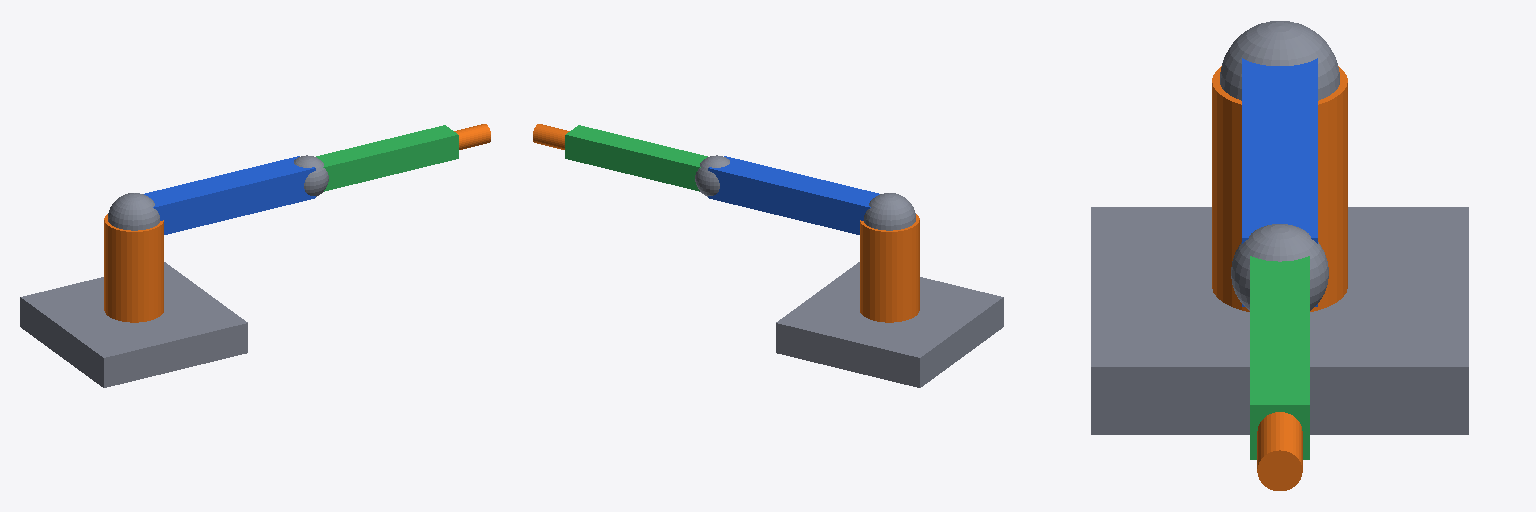
robot.urdf — sample_arm:
<?xml version="1.0"?>
<!-- 뷰어 확인용 예제: 기본 도형만 쓰는 3축 로봇 팔 (메시 파일 불필요). 질량/관성은 중력 토크 확인용 대략값 -->
<robot name="sample_arm">
  <material name="gray"><color rgba="0.55 0.57 0.62 1"/></material>
  <material name="orange"><color rgba="0.95 0.5 0.15 1"/></material>
  <material name="blue"><color rgba="0.2 0.45 0.9 1"/></material>
  <material name="green"><color rgba="0.25 0.75 0.4 1"/></material>

  <link name="base_link">
    <inertial>
      <origin xyz="0 0 0.05"/>
      <mass value="5.0"/>
      <inertia ixx="0.1083" ixy="0" ixz="0" iyy="0.1083" iyz="0" izz="0.2083"/>
    </inertial>
    <visual>
      <origin xyz="0 0 0.05"/>
      <geometry><box size="0.5 0.5 0.1"/></geometry>
      <material name="gray"/>
    </visual>
  </link>

  <link name="shoulder">
    <inertial>
      <origin xyz="0 0 0.15"/>
      <mass value="1.5"/>
      <inertia ixx="0.0127" ixy="0" ixz="0" iyy="0.0127" iyz="0" izz="0.0061"/>
    </inertial>
    <visual>
      <origin xyz="0 0 0.15"/>
      <geometry><cylinder radius="0.09" length="0.3"/></geometry>
      <material name="orange"/>
    </visual>
  </link>
  <joint name="base_yaw" type="revolute">
    <parent link="base_link"/><child link="shoulder"/>
    <origin xyz="0 0 0.1"/>
    <axis xyz="0 0 1"/>
    <limit lower="-3.14" upper="3.14" effort="50" velocity="2"/>
    <dynamics damping="0.5" friction="0.1"/>
  </joint>

  <link name="upper_arm">
    <inertial>
      <origin xyz="0.3 0 0"/>
      <mass value="1.2"/>
      <inertia ixx="0.002" ixy="0" ixz="0" iyy="0.037" iyz="0" izz="0.037"/>
    </inertial>
    <visual>
      <origin xyz="0.3 0 0"/>
      <geometry><box size="0.6 0.1 0.1"/></geometry>
      <material name="blue"/>
    </visual>
    <visual>
      <geometry><sphere radius="0.08"/></geometry>
      <material name="gray"/>
    </visual>
  </link>
  <joint name="shoulder_pitch" type="revolute">
    <parent link="shoulder"/><child link="upper_arm"/>
    <origin xyz="0 0 0.3"/>
    <axis xyz="0 1 0"/>
    <limit lower="-1.57" upper="1.57" effort="50" velocity="2"/>
  </joint>

  <link name="forearm">
    <inertial>
      <origin xyz="0.25 0 0"/>
      <mass value="0.8"/>
      <inertia ixx="0.0009" ixy="0" ixz="0" iyy="0.0172" iyz="0" izz="0.0172"/>
    </inertial>
    <visual>
      <origin xyz="0.25 0 0"/>
      <geometry><box size="0.5 0.08 0.08"/></geometry>
      <material name="green"/>
    </visual>
    <visual>
      <geometry><sphere radius="0.065"/></geometry>
      <material name="gray"/>
    </visual>
  </link>
  <joint name="elbow_pitch" type="revolute">
    <parent link="upper_arm"/><child link="forearm"/>
    <origin xyz="0.6 0 0"/>
    <axis xyz="0 1 0"/>
    <limit lower="-2.4" upper="2.4" effort="30" velocity="2"/>
  </joint>

  <link name="tool">
    <inertial>
      <origin xyz="0.06 0 0"/>
      <mass value="0.3"/>
      <inertia ixx="0.00014" ixy="0" ixz="0" iyy="0.00039" iyz="0" izz="0.00039"/>
    </inertial>
    <visual>
      <origin xyz="0.06 0 0" rpy="0 1.5707963 0"/>
      <geometry><cylinder radius="0.03" length="0.12"/></geometry>
      <material name="orange"/>
    </visual>
  </link>
  <joint name="wrist_roll" type="continuous">
    <parent link="forearm"/><child link="tool"/>
    <origin xyz="0.5 0 0"/>
    <axis xyz="1 0 0"/>
  </joint>
</robot>

--- What the picture shows (computed from the rendered views, not written in the file) ---
Views: 3 orthographic renders of the robot side by side, from view 1: azimuth 30°, elevation 25°; view 2: azimuth 150°, elevation 25°; view 3: azimuth 270°, elevation 25°.
Model sample_arm with 5 links and 4 joints (3 revolute, 1 continuous), rooted at base_link, posed all joints at 0.
Links seen in each view (by area): view 1: base_link, upper_arm, forearm, shoulder, tool; view 2: base_link, upper_arm, forearm, shoulder, tool; view 3: base_link, upper_arm, forearm, shoulder, tool.
Boxes of the visible links, left/top/right/bottom form: base_link: left=20, top=262, right=247, bottom=387; upper_arm: left=108, top=156, right=315, bottom=234; forearm: left=294, top=125, right=458, bottom=196; shoulder: left=104, top=214, right=163, bottom=322; tool: left=454, top=124, right=490, bottom=149; base_link: left=776, top=262, right=1003, bottom=387; upper_arm: left=708, top=156, right=915, bottom=234; forearm: left=565, top=125, right=729, bottom=196; shoulder: left=860, top=214, right=919, bottom=322; tool: left=533, top=124, right=569, bottom=149; base_link: left=1091, top=207, right=1468, bottom=434; upper_arm: left=1220, top=21, right=1339, bottom=306; forearm: left=1231, top=224, right=1328, bottom=459; shoulder: left=1212, top=66, right=1347, bottom=311; tool: left=1257, top=412, right=1302, bottom=490.
Bounding box of the posed robot: 1.47 × 0.5 × 0.48 m (x, y, z).
Geometry: primitives only (box / cylinder / sphere), no mesh files.
